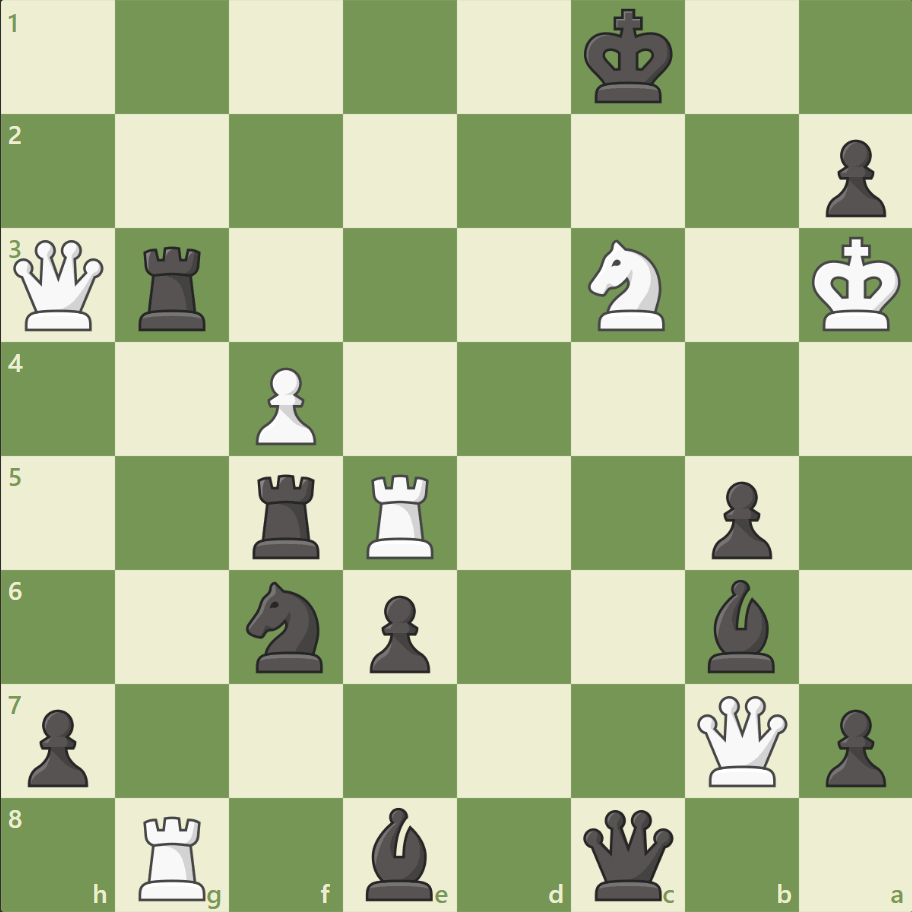K: (806, 231, 906, 339)
N: (579, 234, 676, 337)
P: (247, 359, 322, 450)
Q: (691, 690, 790, 789), (10, 236, 109, 335)
R: (133, 806, 215, 904), (360, 466, 442, 563)
b: (358, 801, 442, 904), (698, 574, 782, 676)
k: (579, 4, 679, 112)
n: (238, 575, 335, 677)
p: (20, 700, 95, 791), (701, 473, 776, 564), (815, 700, 889, 791), (361, 586, 435, 677), (815, 132, 889, 223)
q: (578, 804, 677, 903)
r: (246, 466, 329, 563), (133, 239, 215, 336)
